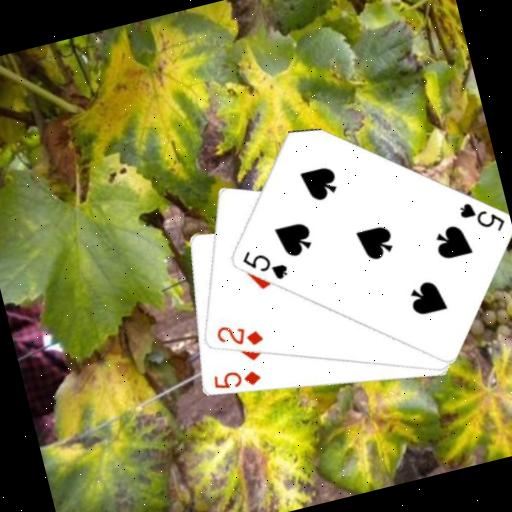2D: (211, 315, 266, 356)
5D: (208, 362, 264, 397)
5S: (237, 240, 291, 290), (453, 192, 507, 242)
